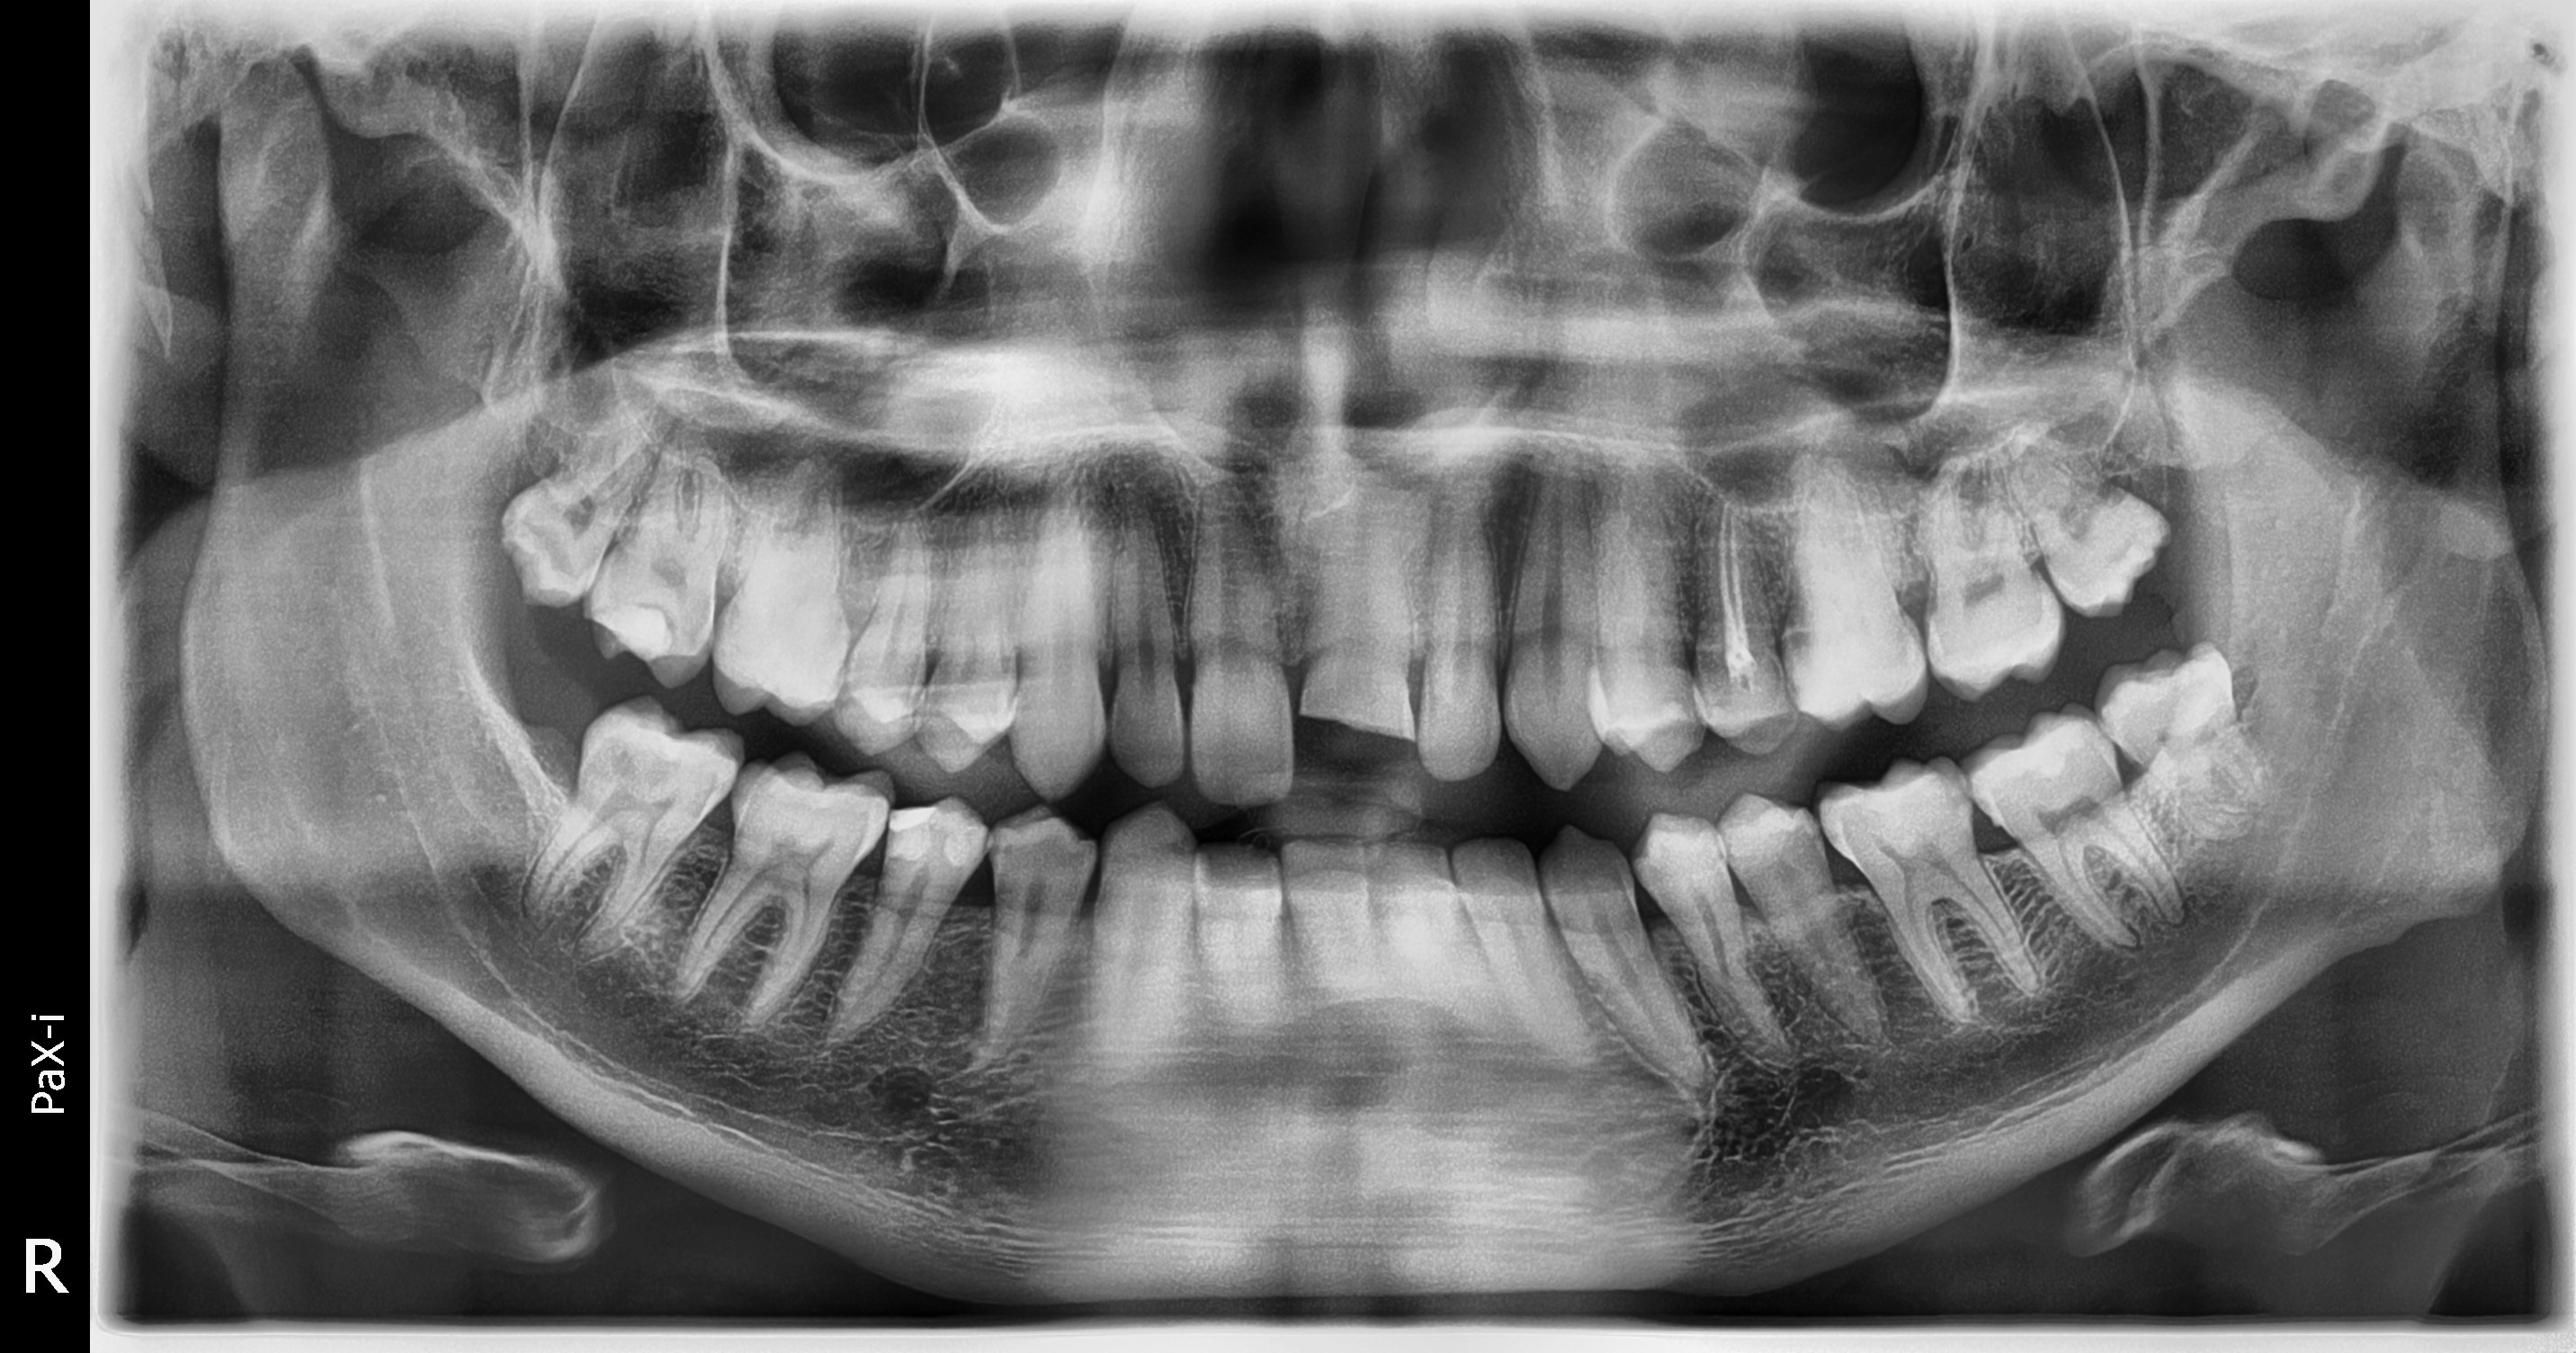CAR: (319, 341, 1053, 1167), (283, 264, 971, 901), (208, 196, 792, 791)
END: (816, 121, 2573, 806)
OBT: (421, 363, 1431, 1247), (402, 351, 1356, 1217), (232, 259, 939, 922)
